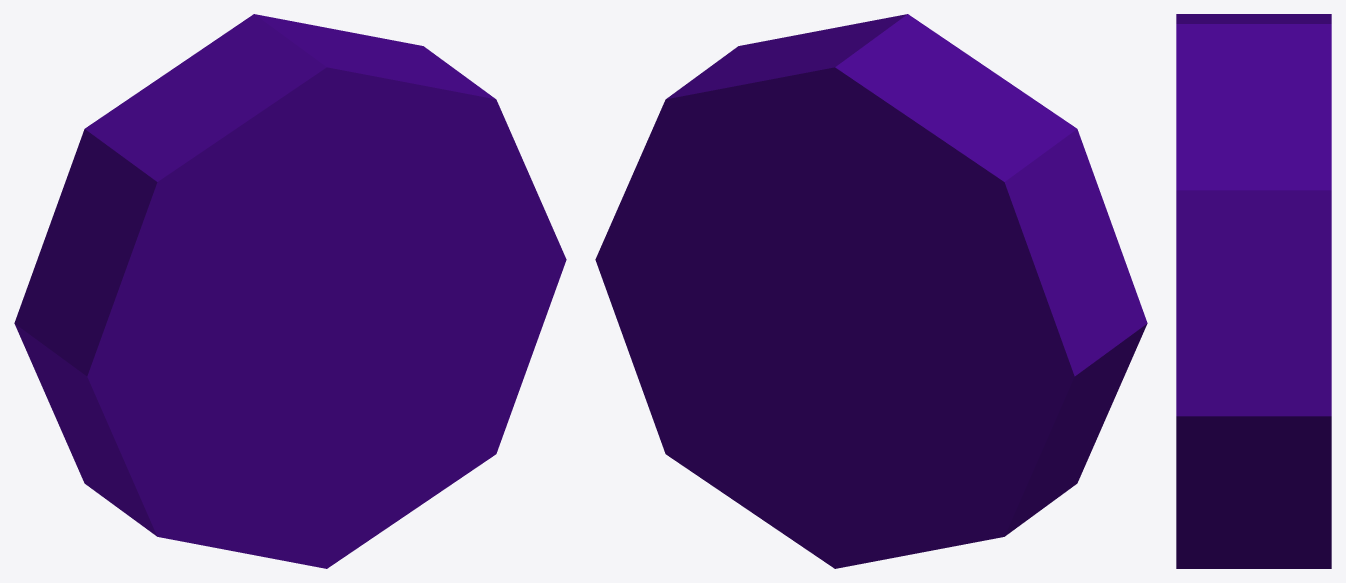
File: Boton09.fbx
3 renders of one model, left to right at view 1: azimuth 30°, elevation 25°; view 2: azimuth 150°, elevation 25°; view 3: azimuth 270°, elevation 25°, orthographic. The views are drawn at different scales.
Parts seen in each view (by area): view 1: Boton09; view 2: Boton09; view 3: Boton09.
Part boxes in pixels (x1=…): Boton09: x1=14, y1=14, x2=566, y2=568; Boton09: x1=595, y1=14, x2=1147, y2=568; Boton09: x1=1176, y1=14, x2=1331, y2=568.
Size of the model in its own units: 10 by 10 by 2.63.
